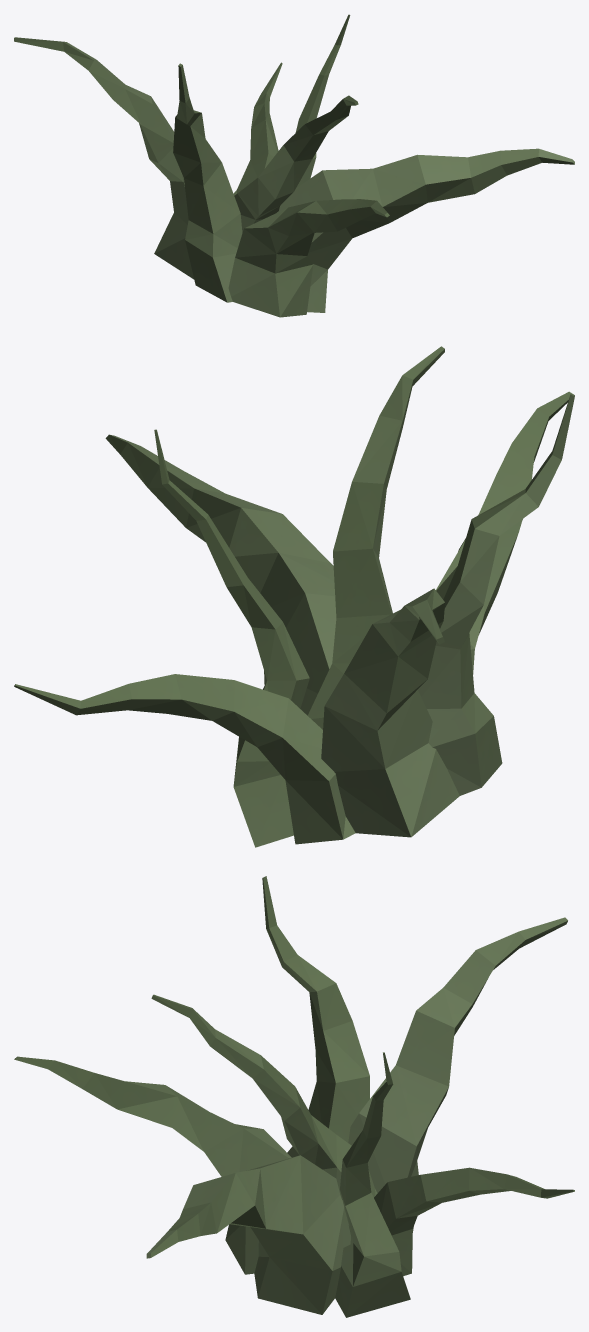
File: grass_green_1.obj
3 views of the same model, one above another, from view 1: azimuth 30°, elevation 25°; view 2: azimuth 150°, elevation 25°; view 3: azimuth 270°, elevation 25° (orthographic). The views are drawn at different scales.
Visible parts, largest first — view 1: grass_green_1_Mesh; view 2: grass_green_1_Mesh; view 3: grass_green_1_Mesh.
Part boxes in pixels (left/top/right/bottom): grass_green_1_Mesh: left=14, top=14, right=574, bottom=317; grass_green_1_Mesh: left=14, top=346, right=574, bottom=847; grass_green_1_Mesh: left=14, top=876, right=574, bottom=1317.
Bounding box in the file's own units: 0.5788 × 0.4094 × 0.5994.
